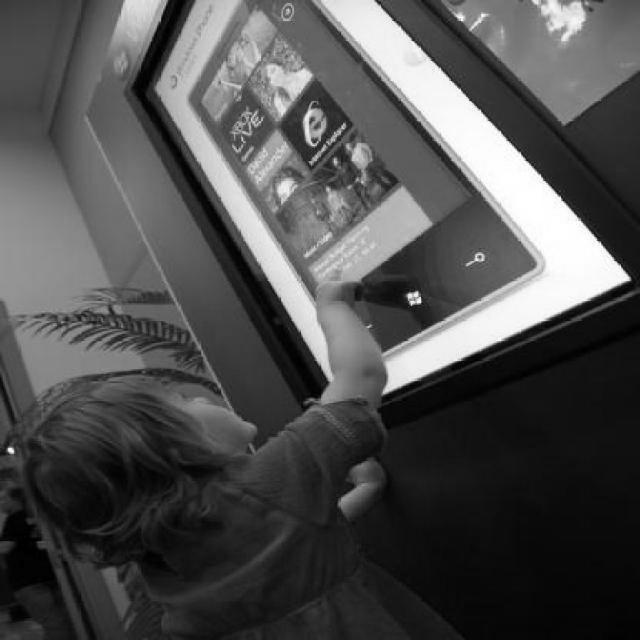fake: (140, 0, 562, 366)
